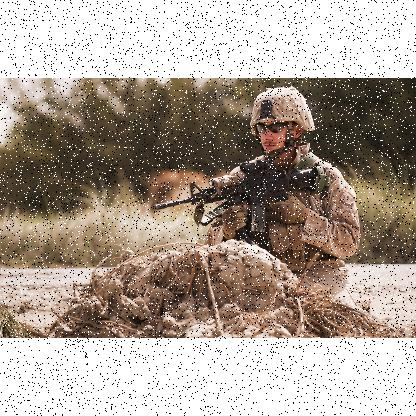gun: (151, 154, 345, 240)
